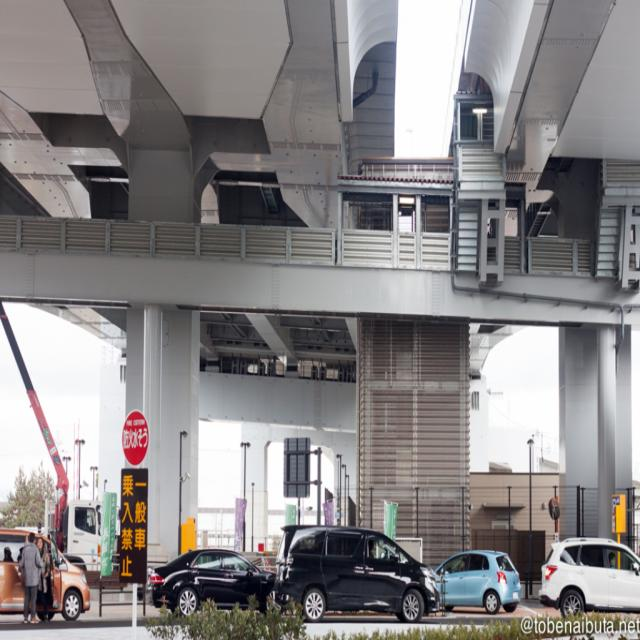car: (273, 525, 446, 629), (541, 530, 638, 617), (150, 547, 272, 613), (0, 527, 88, 617), (434, 543, 524, 613)
